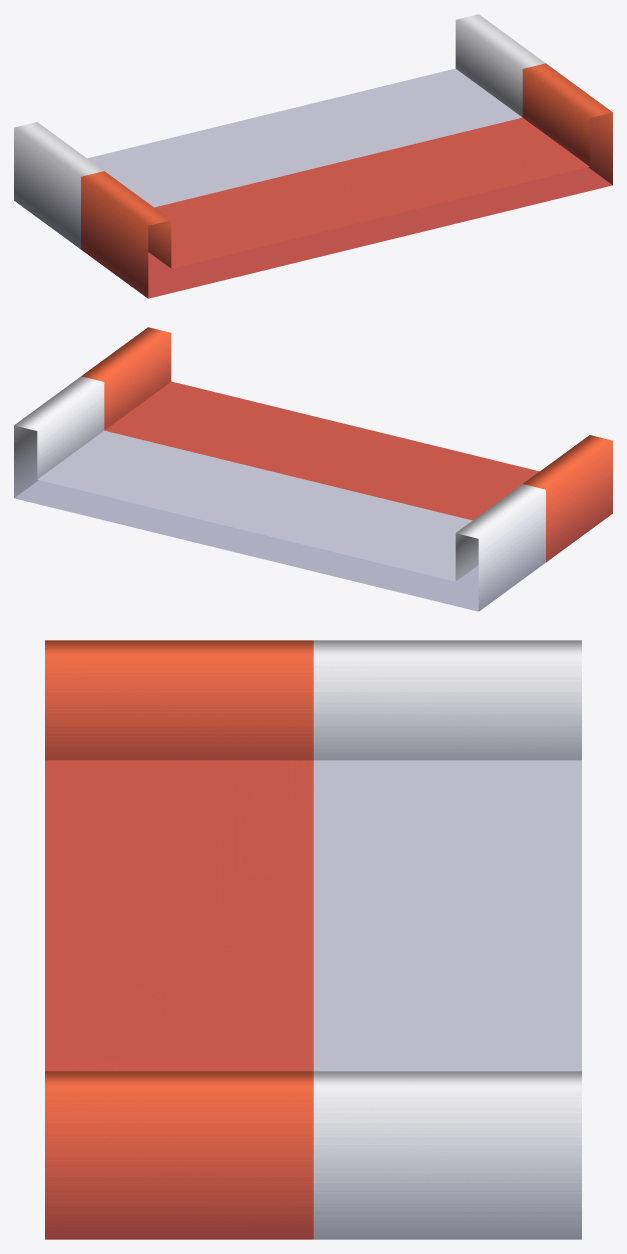
Rendered from track-striped-wide.glb.
3 renders of one model, top to bottom at view 1: azimuth 30°, elevation 25°; view 2: azimuth 150°, elevation 25°; view 3: azimuth 270°, elevation 25°, orthographic. The views are drawn at different scales.
Visible parts, largest first — view 1: track-striped-wide; view 2: track-striped-wide; view 3: track-striped-wide.
Part boxes in pixels (x1=…): track-striped-wide: x1=14, y1=14, x2=612, y2=298; track-striped-wide: x1=14, y1=327, x2=612, y2=611; track-striped-wide: x1=45, y1=640, x2=581, y2=1239.
Bounding box in the file's own units: 2 × 0.3 × 1.
Materials: 1 (1 with a texture image).
